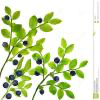Blueberry leaf: (43, 11, 56, 24), (56, 81, 74, 89), (65, 43, 78, 54), (39, 24, 54, 33), (23, 58, 32, 73), (74, 69, 86, 80), (28, 14, 37, 28), (49, 18, 63, 26), (16, 56, 24, 70), (68, 59, 79, 69), (65, 89, 75, 100), (60, 36, 68, 49), (57, 46, 65, 59), (44, 51, 52, 64), (12, 10, 21, 21), (35, 37, 46, 46), (32, 44, 43, 53), (63, 71, 72, 82), (57, 88, 65, 100), (49, 84, 57, 96), (1, 29, 10, 39), (4, 6, 13, 16), (61, 57, 71, 66), (34, 65, 44, 74), (46, 61, 56, 70), (55, 64, 65, 73), (12, 24, 23, 32), (11, 45, 19, 56), (19, 48, 30, 56), (20, 75, 32, 82), (10, 37, 19, 46), (17, 80, 26, 89), (79, 60, 89, 68), (27, 29, 38, 36), (21, 88, 28, 99), (24, 83, 33, 89)
